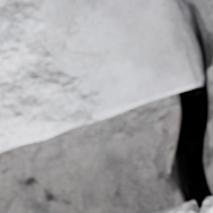brick: (0, 0, 202, 151)
broken_brick: (154, 198, 212, 212)
crack: (168, 2, 212, 210)
